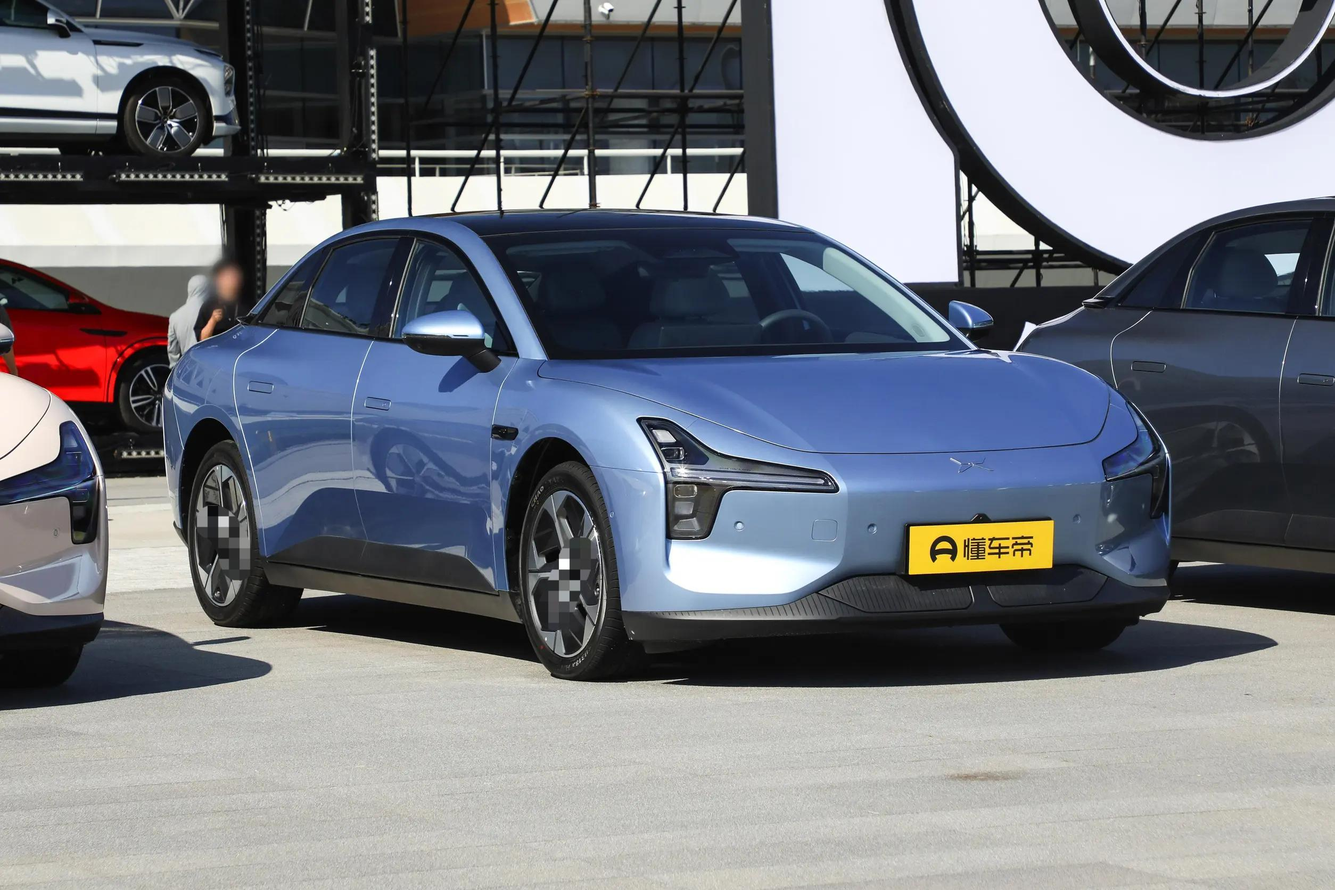XPeng Motors: (950, 456, 994, 472)
